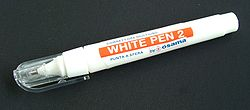Correction_fluid: (11, 8, 243, 95)
